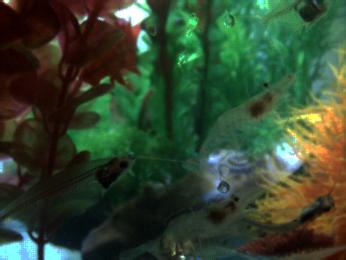X-ray fish: (254, 1, 333, 41)
glassfish: (1, 154, 139, 236), (240, 192, 340, 236)
siberian prawn: (188, 73, 298, 174), (142, 184, 270, 254)
